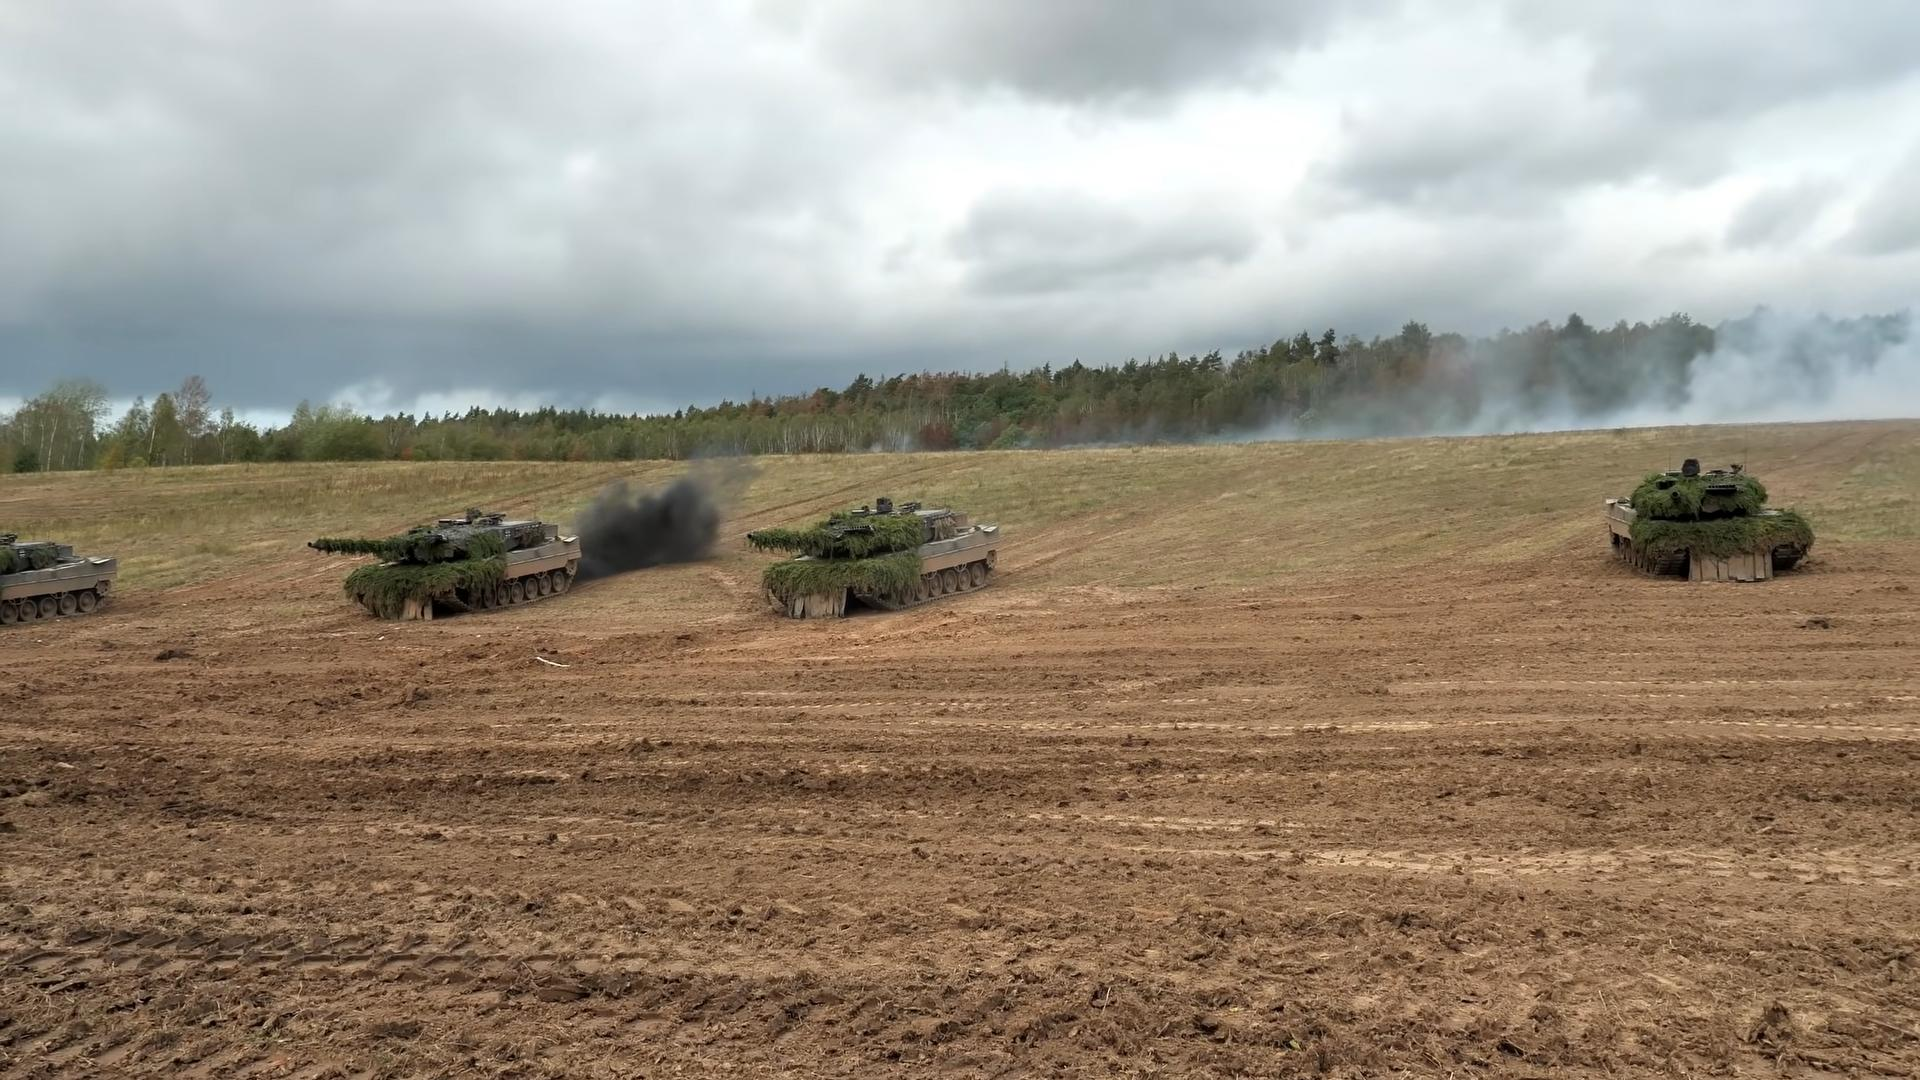tank: (746, 496, 1000, 617), (307, 513, 580, 622), (1605, 458, 1816, 580), (0, 531, 117, 624)
